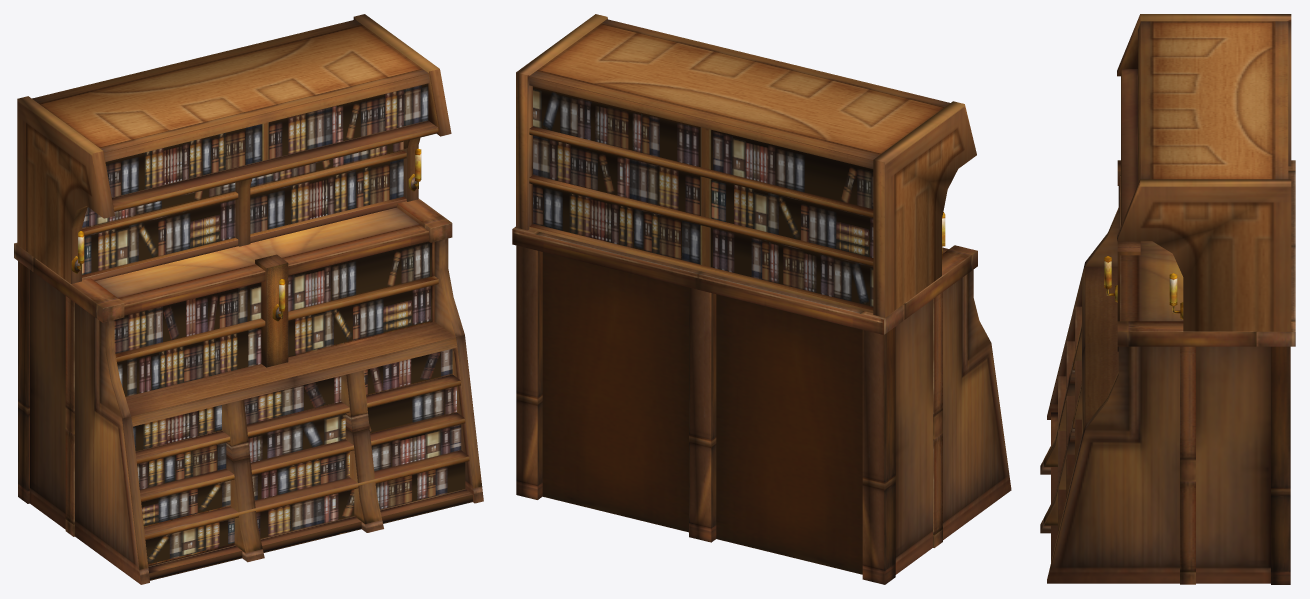
File: a_bookcase09.glb
3 views of the same model, side by side, from view 1: azimuth 30°, elevation 25°; view 2: azimuth 150°, elevation 25°; view 3: azimuth 270°, elevation 25° (orthographic). The views are drawn at different scales.
Visible parts, largest first — view 1: a_bookcase09; view 2: a_bookcase09; view 3: a_bookcase09.
Part boxes in pixels (x1,y1,x2,y2): a_bookcase09: [14, 14, 483, 584]; a_bookcase09: [512, 14, 1011, 584]; a_bookcase09: [1040, 14, 1295, 584].
Bounding box in the file's own units: 3.99 × 4.33 × 2.51.
3 materials, 3 textured.
